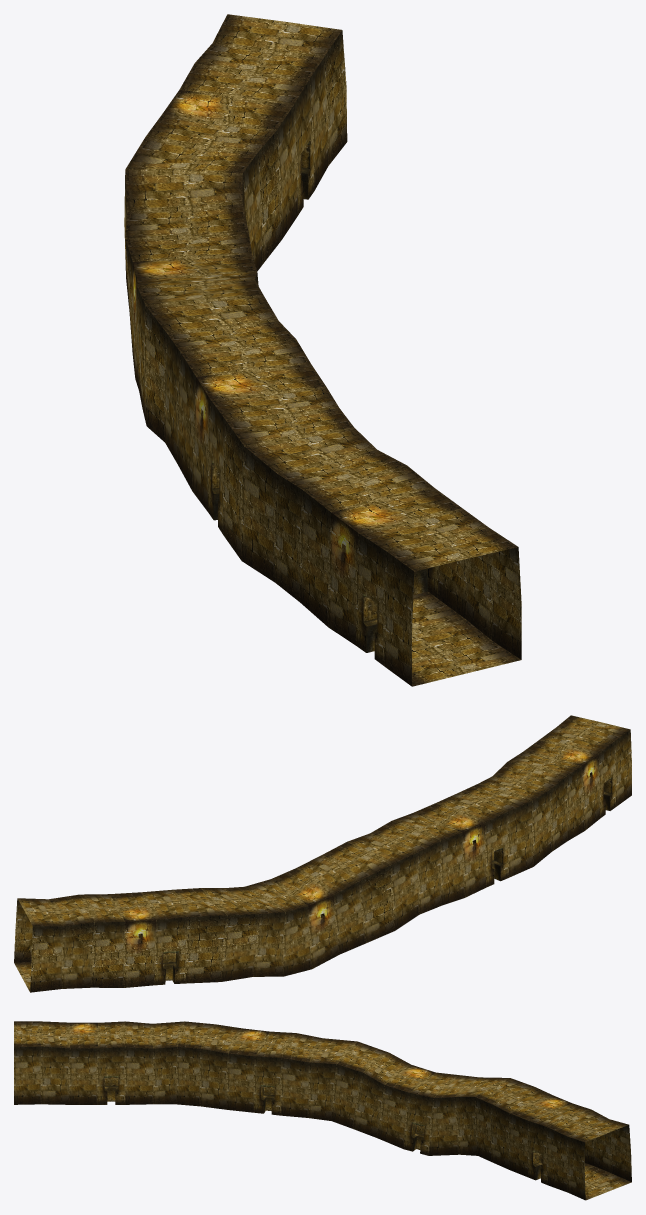
The model's file is passage.fbx.
3 views of the same model, one above another, from view 1: azimuth 30°, elevation 25°; view 2: azimuth 150°, elevation 25°; view 3: azimuth 270°, elevation 25° (orthographic). The views are drawn at different scales.
Visible parts, largest first — view 1: passageObj; view 2: passageObj; view 3: passageObj.
Part boxes in pixels (<box>): passageObj: <box>124,14,521,686</box>; passageObj: <box>14,715,631,992</box>; passageObj: <box>14,1021,631,1200</box>.
Size of the model in its own units: 35.09 by 9.86 by 73.99.
